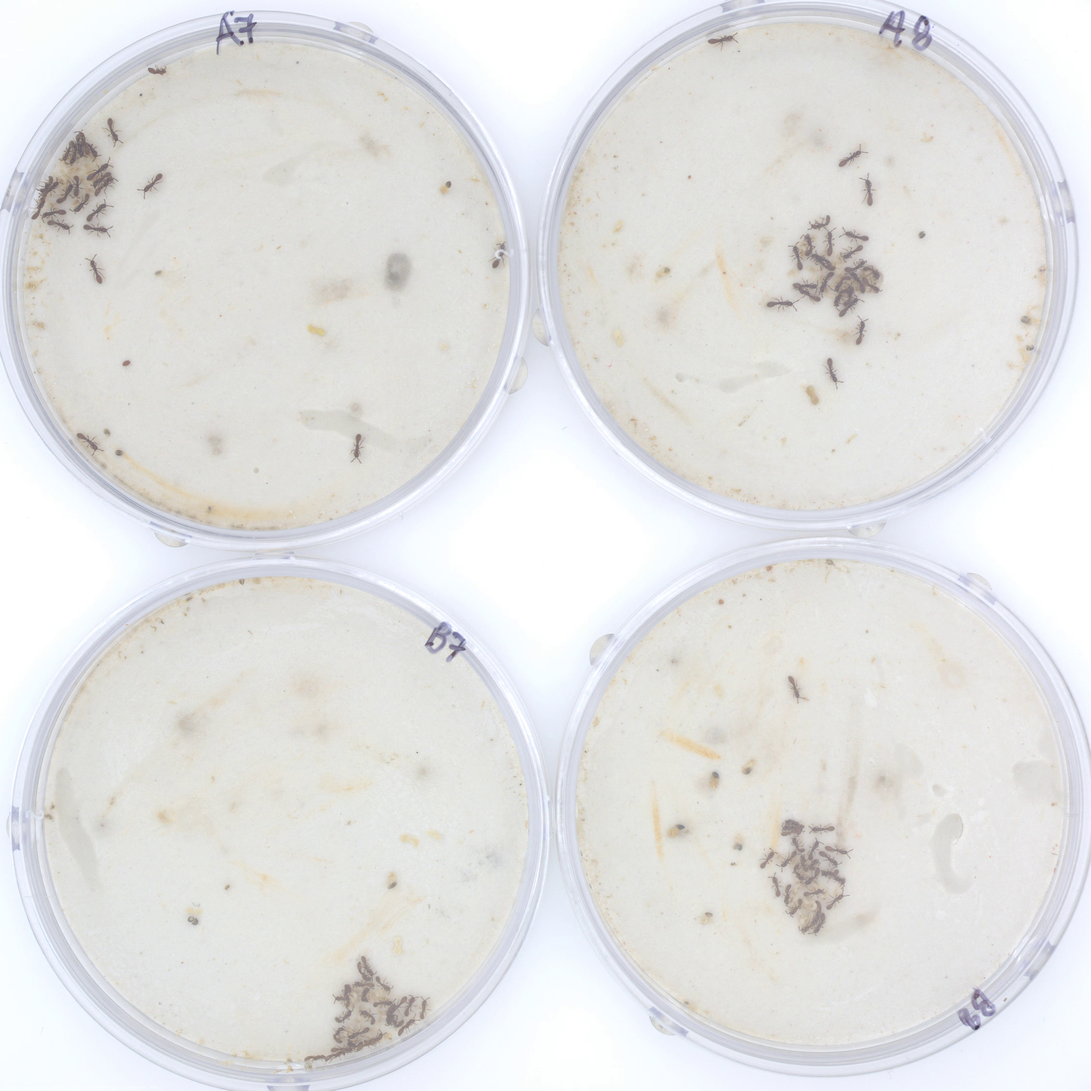brood: (785, 235, 879, 303), (773, 835, 839, 930), (337, 966, 398, 1050), (39, 142, 107, 214)
